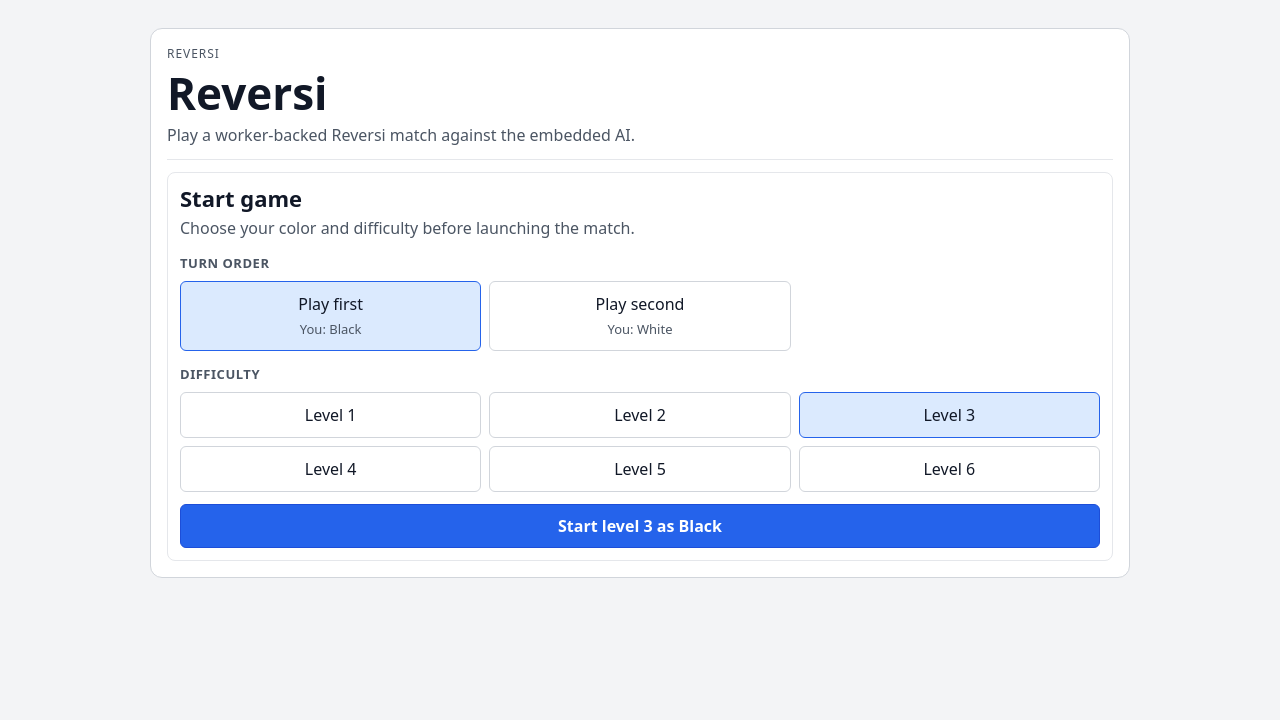
Test case: App › shows init_game failure UI, disables the start button, and retries successfully
Click the button "Start level 3 as Black" at (640, 526), box left=180, top=504, right=1100, bottom=548
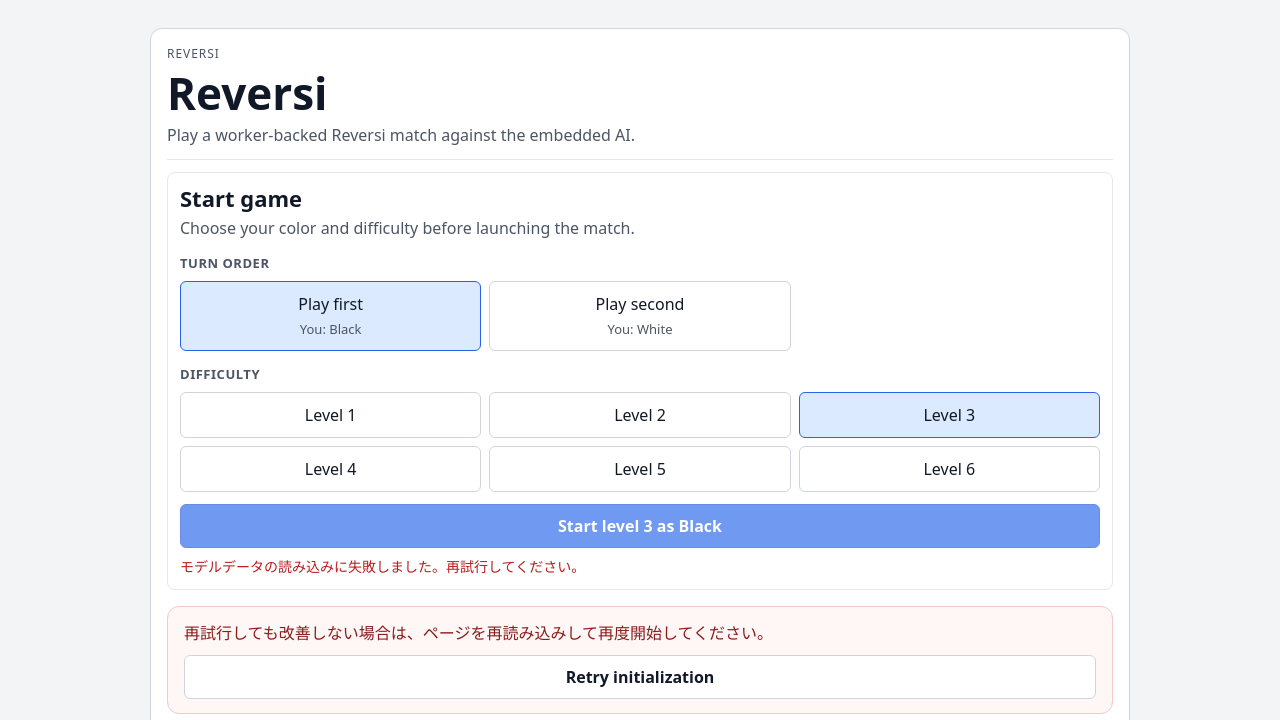
expect the message reads "モデルデータの読み込みに失敗しました。再試行してください。": met, box left=180, top=557, right=585, bottom=576
expect the button "Start level 3 as Black" is disabled: met, box left=180, top=504, right=1100, bottom=548
expect the button "Retry initialization" is shown: met
Click the button "Retry initialization" at (640, 677), box left=184, top=655, right=1096, bottom=699
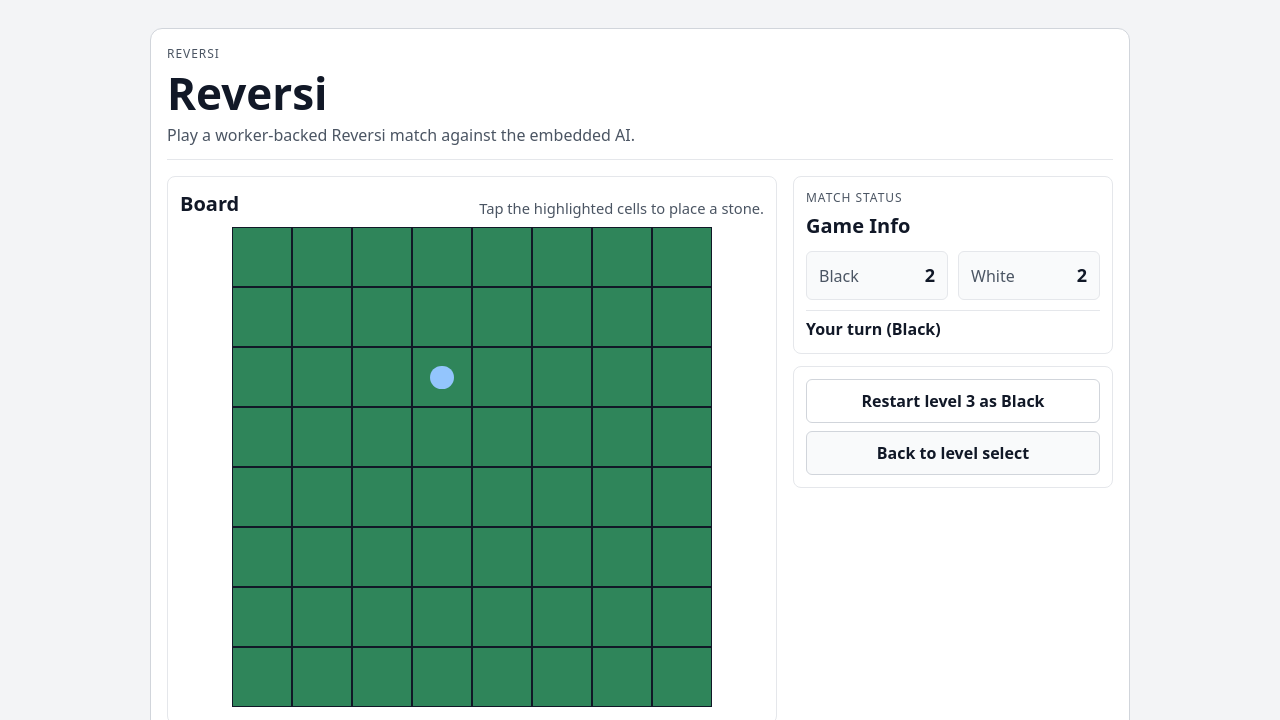
expect the table named "Reversi board" is shown: met, box left=232, top=227, right=712, bottom=707
